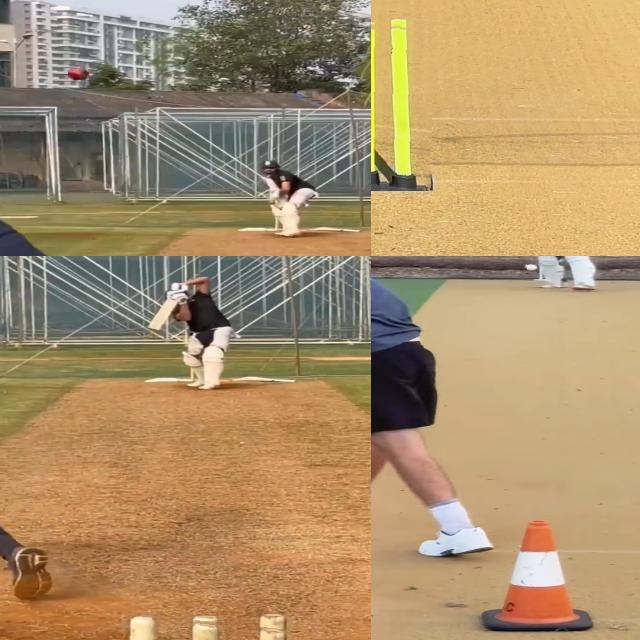Cricket ball: (67, 67, 90, 82), (522, 261, 540, 273)
Stumps: (371, 16, 433, 191)
